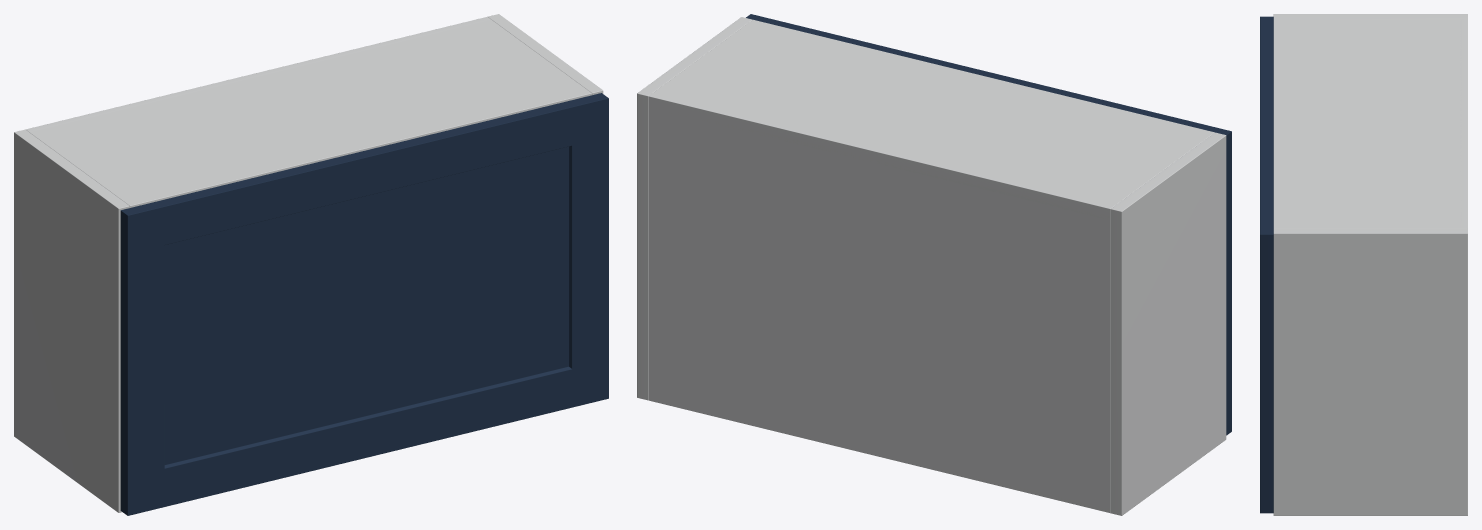
The model's file is oppein-ply-bss-wsl3018.glb.
3 renders of one model, left to right at view 1: azimuth 30°, elevation 25°; view 2: azimuth 150°, elevation 25°; view 3: azimuth 270°, elevation 25°, orthographic. The views are drawn at different scales.
Visible parts, largest first — view 1: Door, Cabinet top, Cabinet side, Cabinet back, Cabinet side.001; view 2: Cabinet back, Cabinet top, Cabinet side, Cabinet side.001, Door; view 3: Cabinet side.001, Cabinet top, Door, Cabinet back, Cabinet side.
Boxes of the visible parts, bbox=[...] form: Door: bbox=[120, 93, 608, 515]; Cabinet top: bbox=[30, 17, 591, 207]; Cabinet side: bbox=[14, 129, 129, 512]; Cabinet back: bbox=[25, 16, 490, 132]; Cabinet side.001: bbox=[488, 14, 603, 95]; Cabinet back: bbox=[648, 93, 1113, 512]; Cabinet top: bbox=[648, 19, 1214, 219]; Cabinet side: bbox=[1110, 132, 1226, 515]; Cabinet side.001: bbox=[637, 17, 752, 400]; Door: bbox=[746, 14, 1231, 435]; Cabinet side.001: bbox=[1273, 228, 1467, 515]; Cabinet top: bbox=[1273, 19, 1467, 228]; Door: bbox=[1260, 16, 1273, 513]; Cabinet back: bbox=[1460, 19, 1467, 228]; Cabinet side: bbox=[1273, 14, 1467, 19].
Bounding box in the file's own units: 0.762 × 0.4572 × 0.3048.
